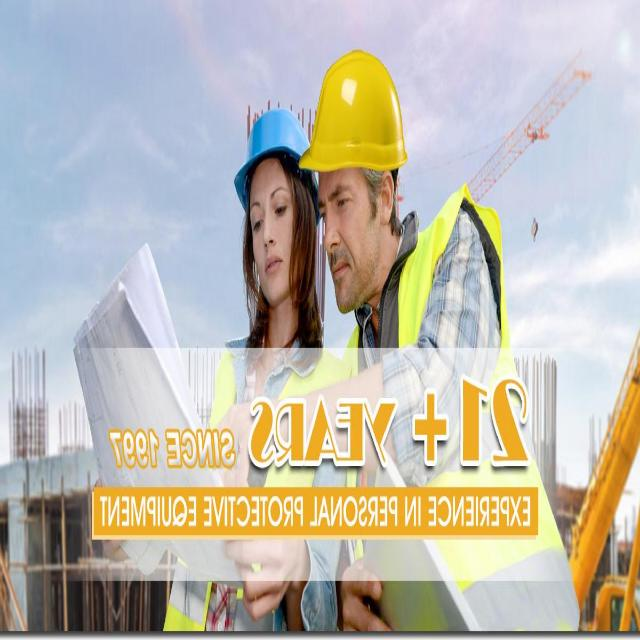Reflective-Jacket: (338, 199, 567, 640)
Safety-Helmet: (302, 44, 412, 186), (233, 99, 317, 205)
